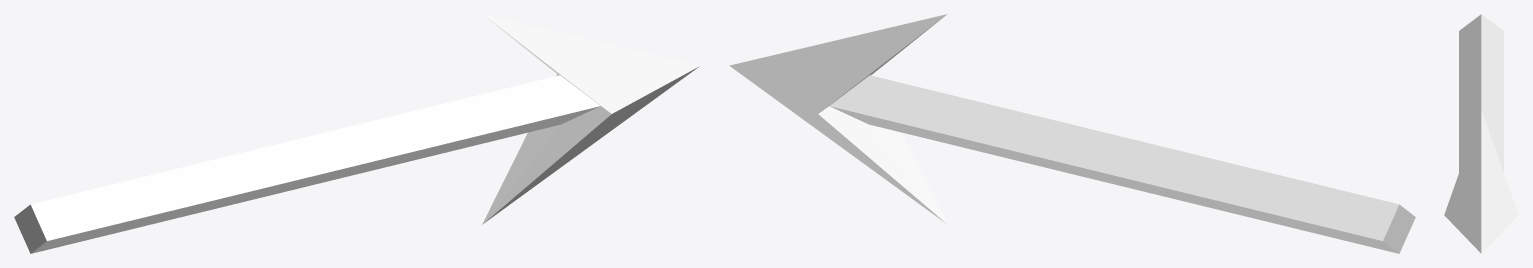
Rendered from arrow.obj.
The picture shows the model from 3 angles, left to right: view 1: azimuth 30°, elevation 25°; view 2: azimuth 150°, elevation 25°; view 3: azimuth 270°, elevation 25°; orthographic projection. The views are drawn at different scales.
Visible parts, largest first — view 1: Cube; view 2: Cube; view 3: Cube.
Part boxes in pixels (x1,y1,x2,y2): Cube: [14, 14, 700, 253]; Cube: [729, 14, 1415, 253]; Cube: [1444, 14, 1518, 253].
Size of the model in its own units: 1 by 0.3007 by 0.1414.
